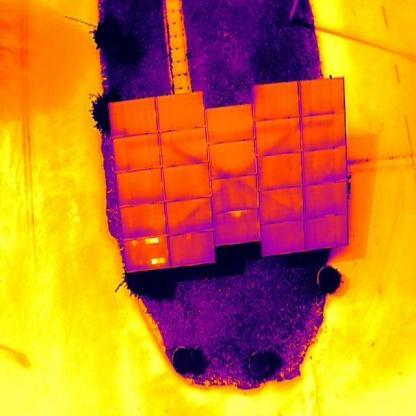anomaly: (148, 256, 168, 267), (144, 236, 162, 246)
